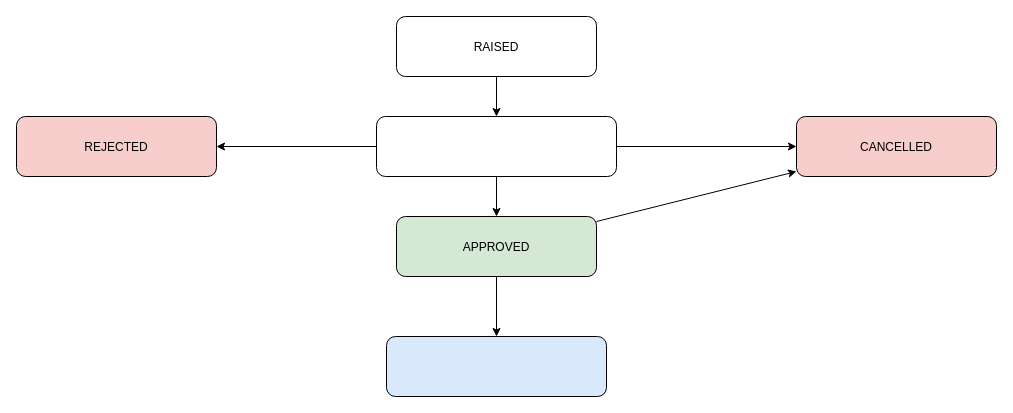
Some shapes in this 1013 by 413 pixel diagram are drawn without their labels. The shapes that lost their labels are listed below. From the top down, each one's centre as x and y in pixels, then its label:
the point at 496,146: APPROVAL_PENDING
the point at 496,366: RAKE_ALLOCATED
